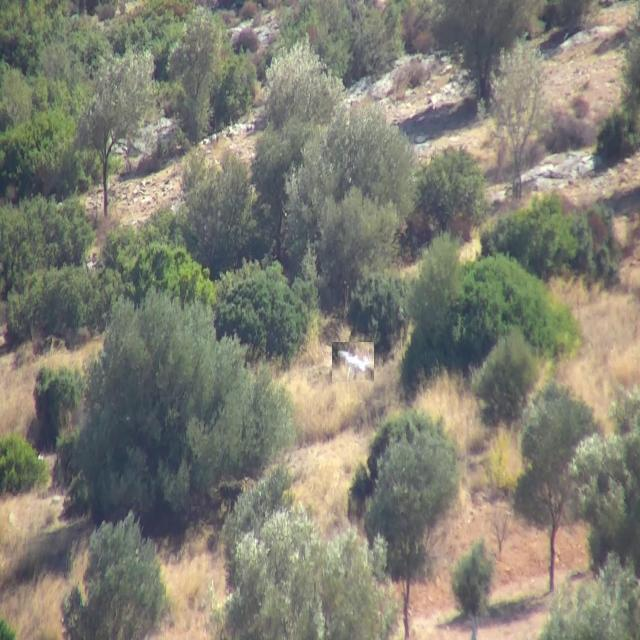drone: (332, 342, 374, 382)
